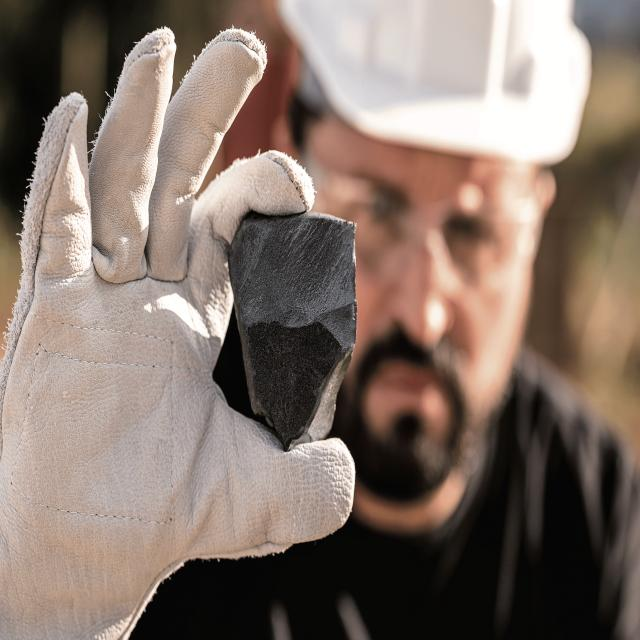helmet: (270, 0, 600, 177)
